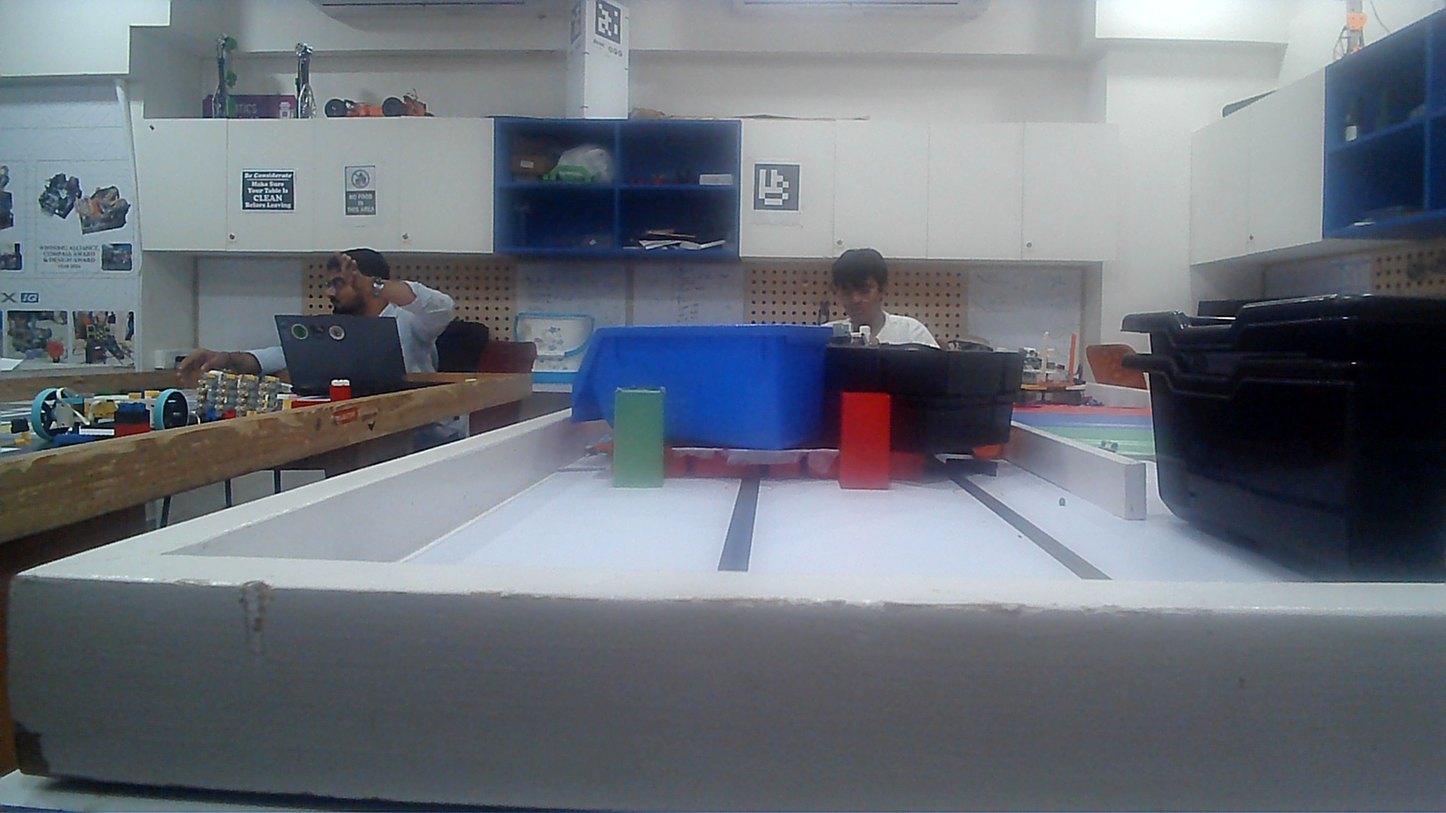red: (840, 391, 889, 492)
